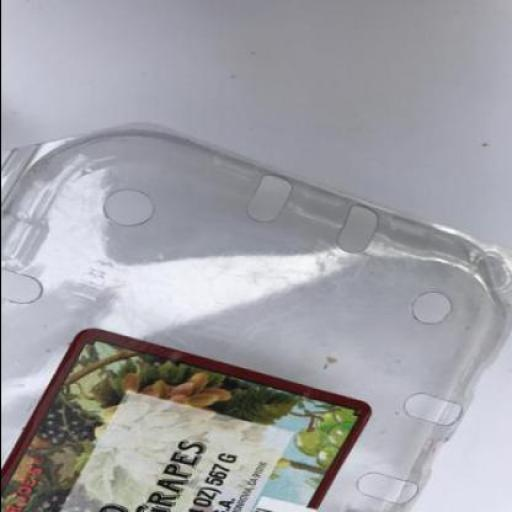plastic: (1, 124, 511, 512)
